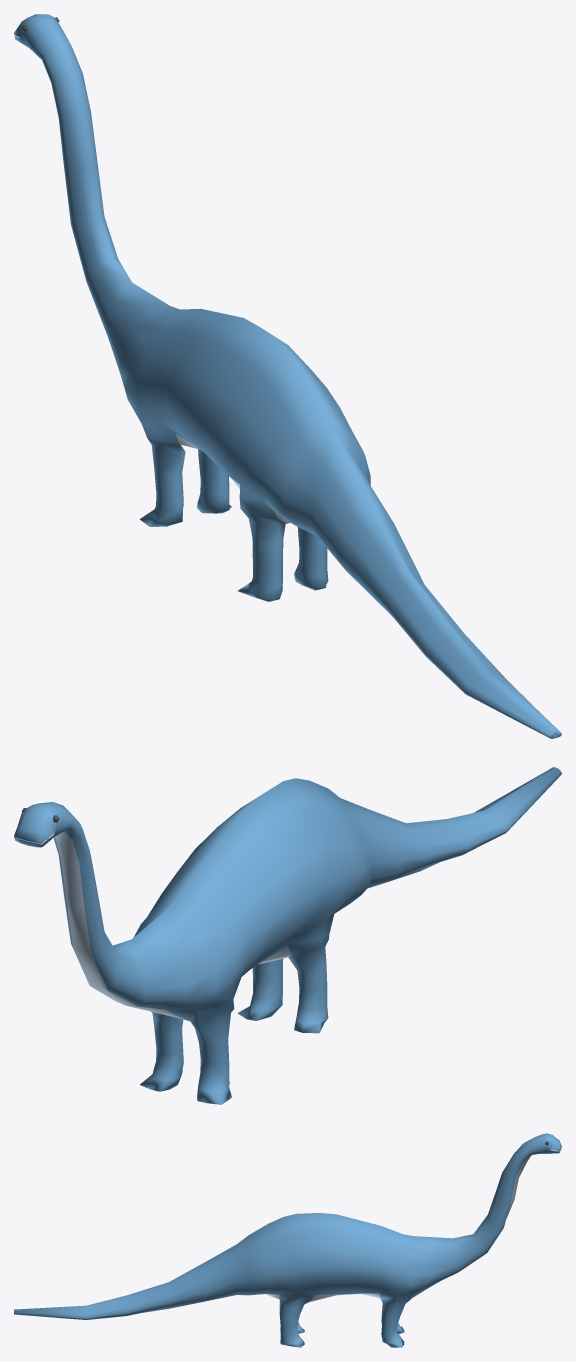
The model's file is NOVELO_DIPLODOCUS.gltf.
3 renders of one model, top to bottom at view 1: azimuth 30°, elevation 25°; view 2: azimuth 150°, elevation 25°; view 3: azimuth 270°, elevation 25°, orthographic. The views are drawn at different scales.
Visible parts, largest first — view 1: node-0; view 2: node-0; view 3: node-0.
Boxes of the visible parts, bbox=[...] form: node-0: bbox=[14, 14, 561, 738]; node-0: bbox=[14, 767, 561, 1104]; node-0: bbox=[14, 1133, 561, 1347].
Bounding box in the file's own units: 195 × 625 × 1531.
